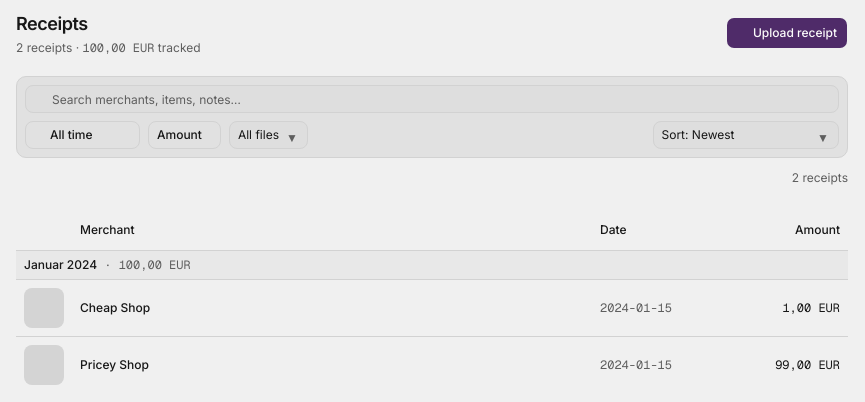
ReceiptsPage › sorts the table by amount
Expected: the button "Cheap Shop" is shown, [80,300,150,316]
Click the dropdown named "Sort order": (746, 135) [652,121,839,149]
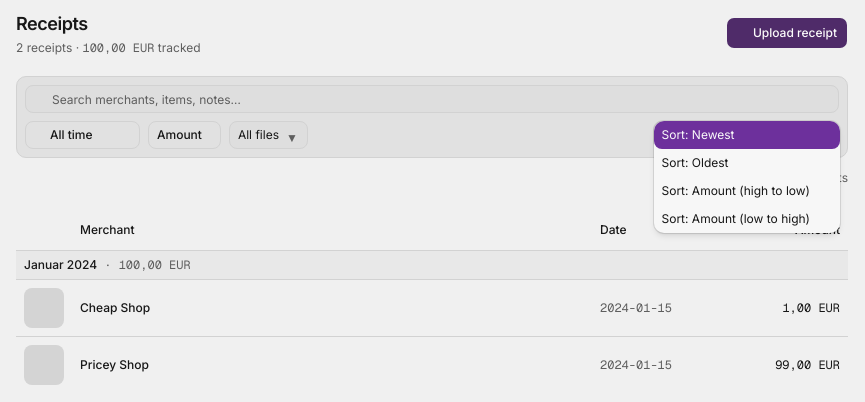
Click the option "Sort: Amount (high to low)": (736, 191) [662,183,810,198]
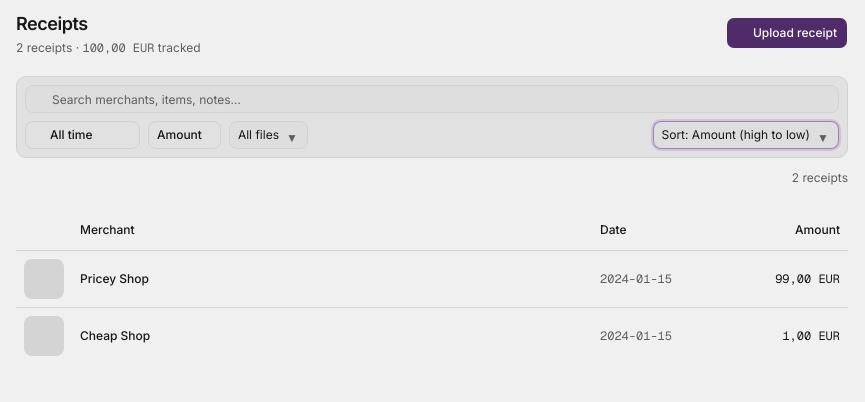
Now the button "Pricey Shop" is shown, box [80,270,149,286]
Now the button "Cheap Shop" is shown, box [80,328,150,344]
